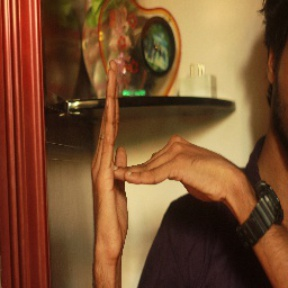Z: (75, 57, 229, 264)
